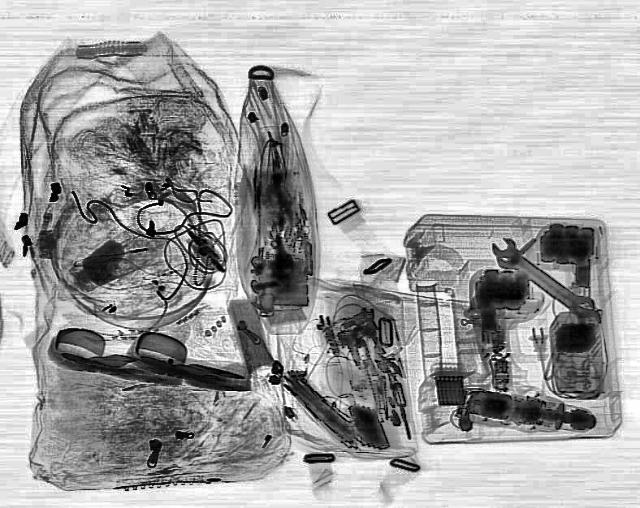Wrench: (487, 246, 607, 328), (486, 234, 598, 318)
